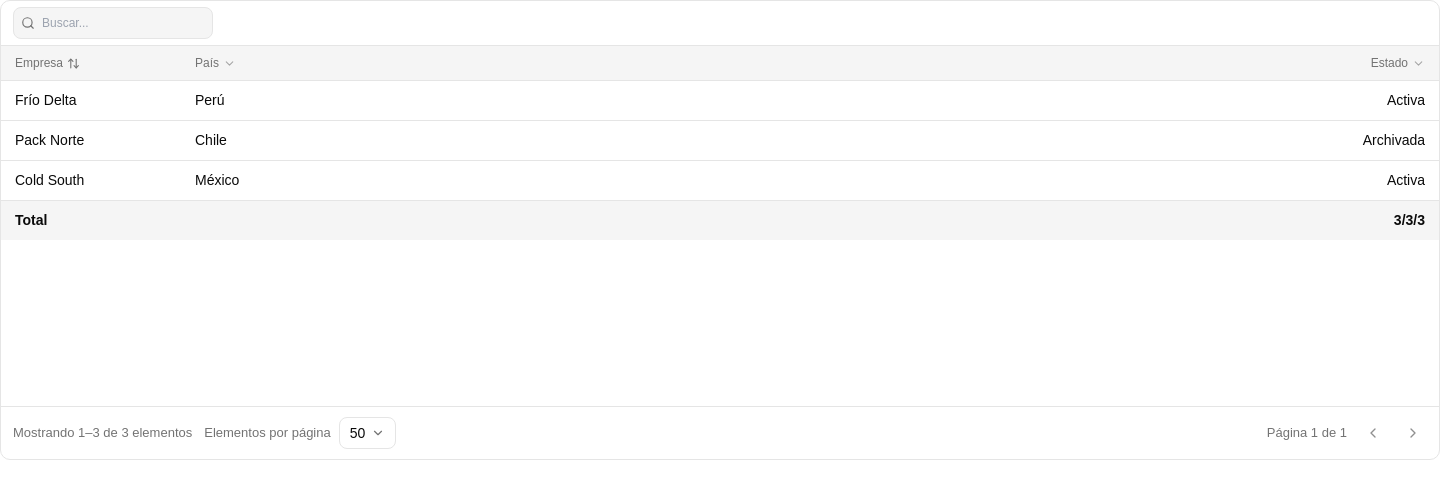
Test: the totals follow the search
Expected: the cell "3/3/3" is shown, [810,200,1439,240]
Step 1. Type "Frio" into the search field → (113, 23), box [13,7,213,39]
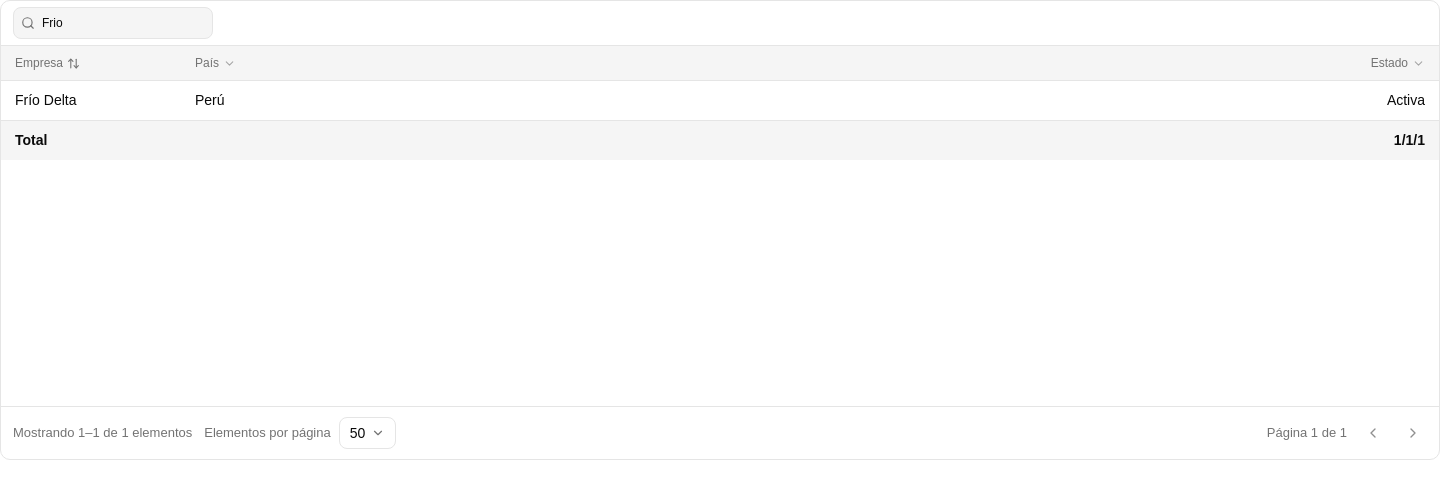
Expected: the cell "1/1/1" is shown, [810,120,1439,160]
